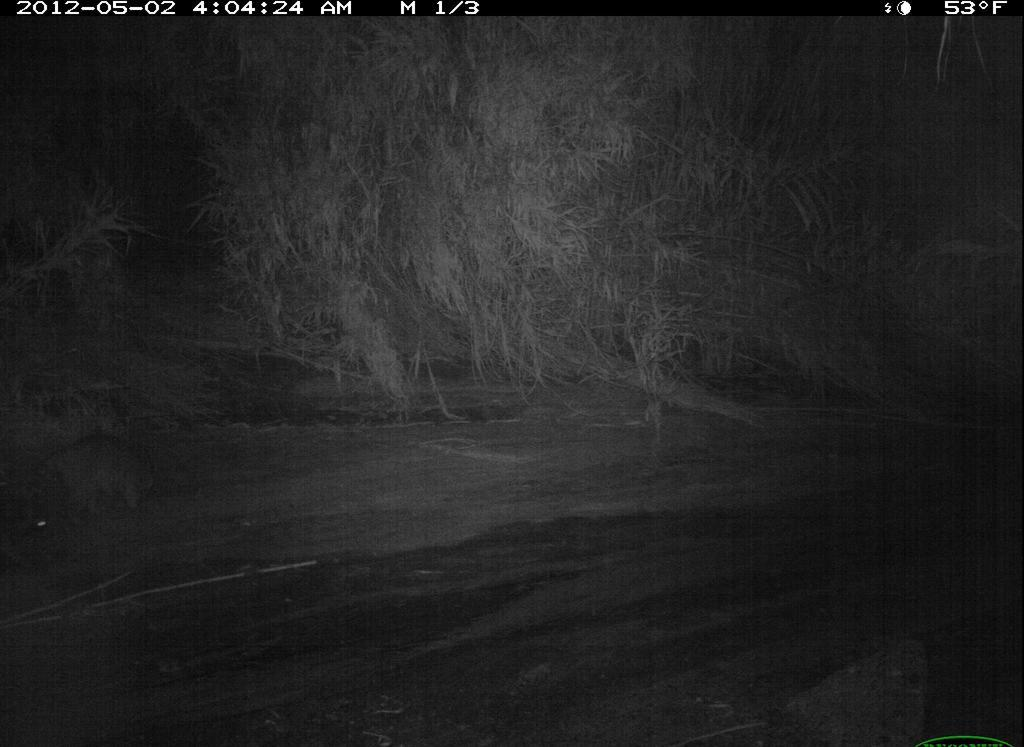raccoon: (13, 425, 166, 536)
